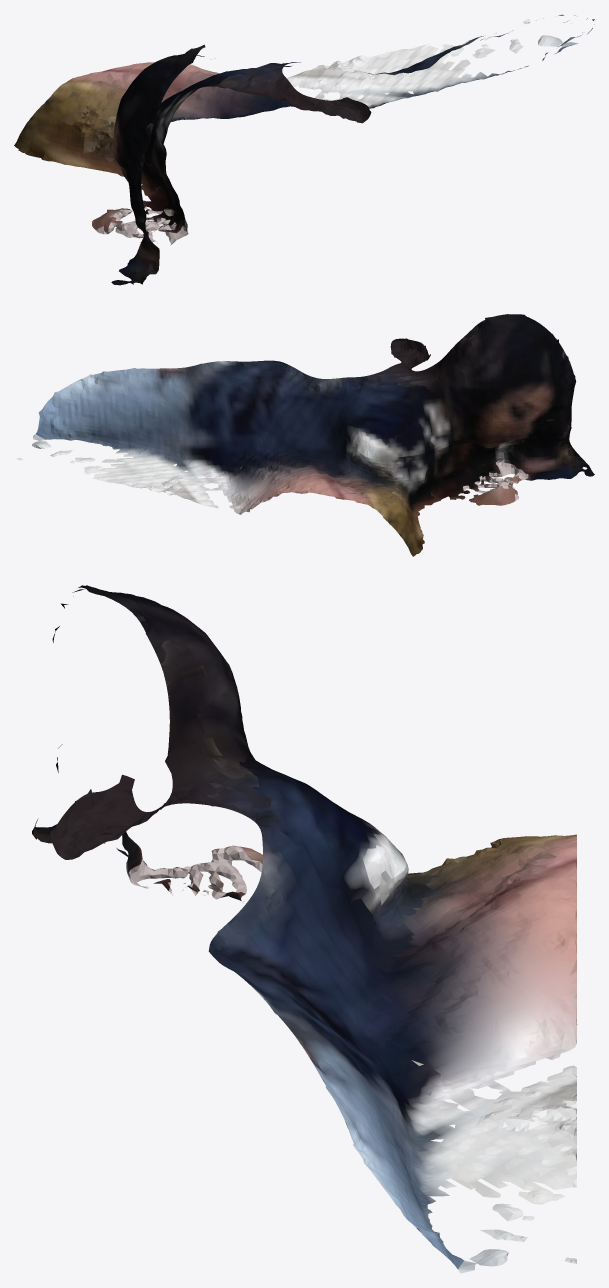
3 renders of one model, top to bottom at view 1: azimuth 30°, elevation 25°; view 2: azimuth 150°, elevation 25°; view 3: azimuth 270°, elevation 25°, orthographic. The views are drawn at different scales.
Bounding box in the file's own units: 0.9744 × 0.3031 × 0.4966.
Materials: 1 (1 with a texture image).
